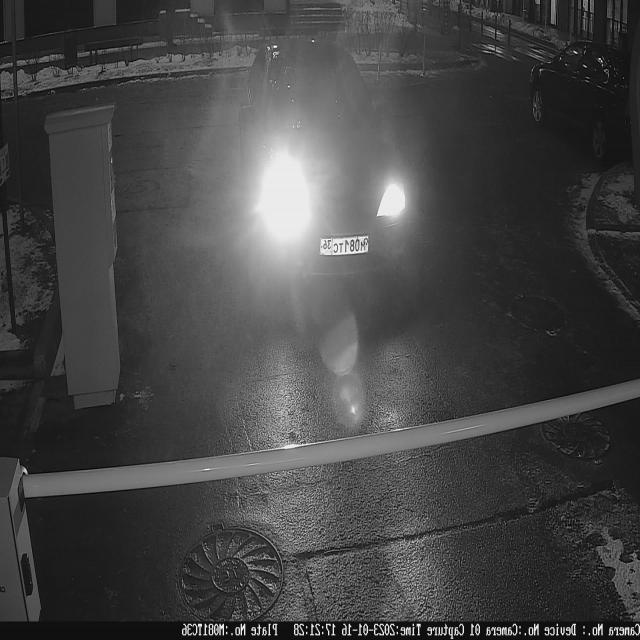car-plate-numbers: (318, 230, 372, 263)
